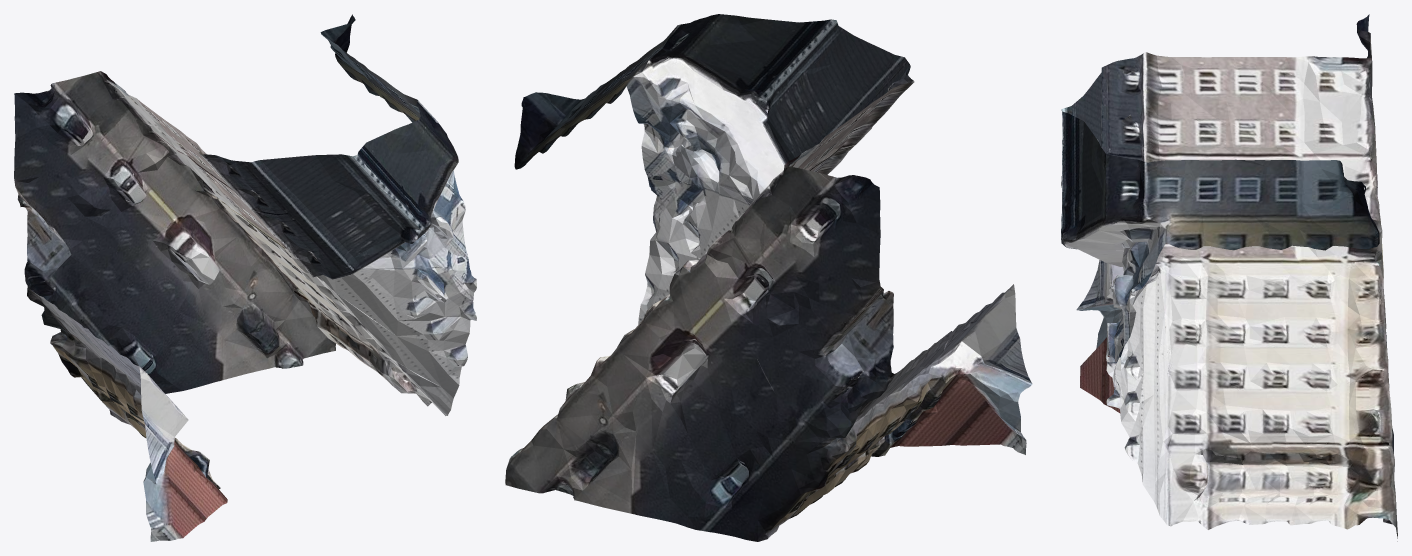
Rendered from Tile_+031_+021_L20_0002230.obj.
The picture shows the model from 3 angles, left to right: view 1: azimuth 30°, elevation 25°; view 2: azimuth 150°, elevation 25°; view 3: azimuth 270°, elevation 25°; orthographic projection. The views are drawn at different scales.
Bounding box in the file's own units: 31.5 × 31.38 × 26.64.
Materials: 1 (1 with a texture image).
